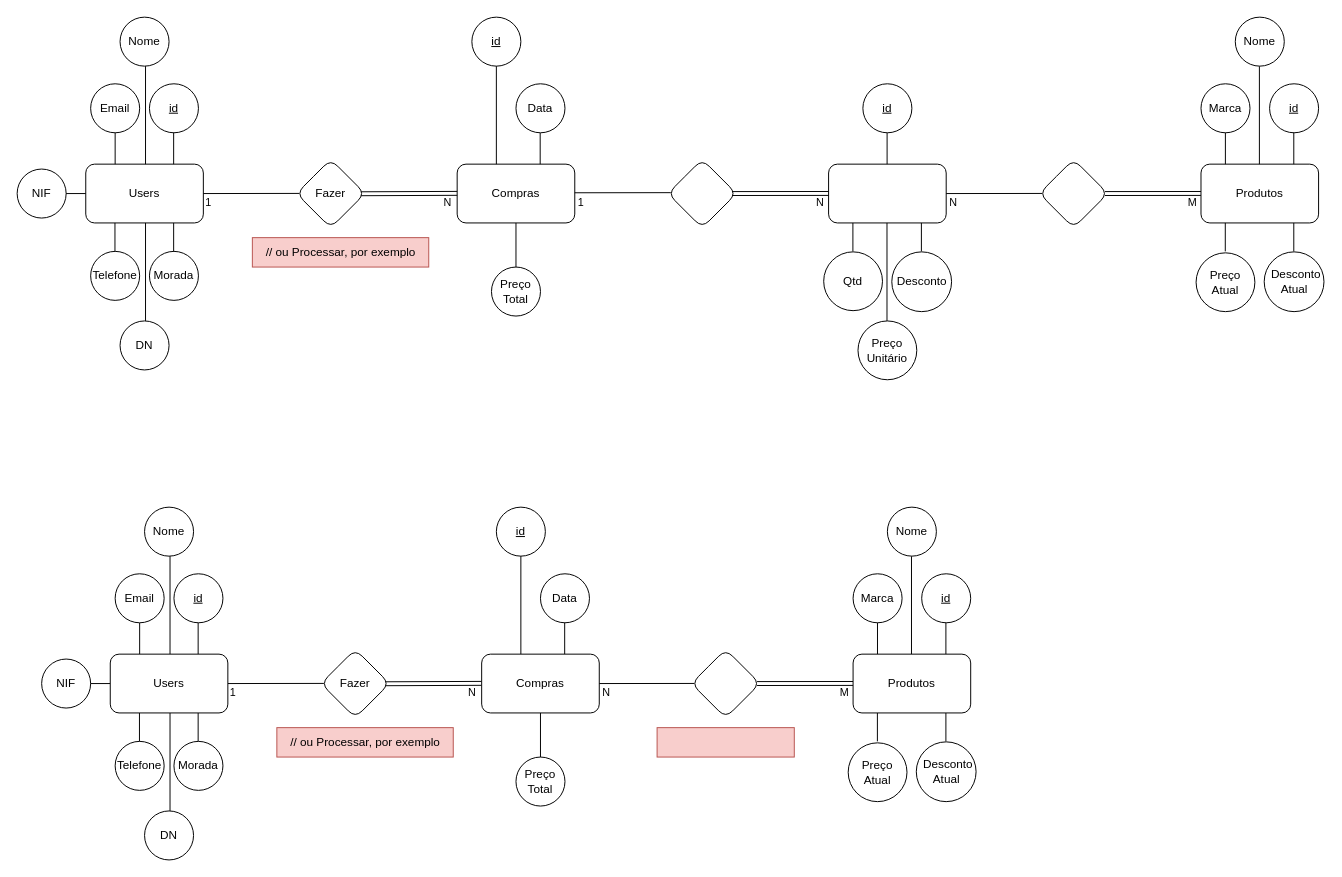
Some shapes in this 1342 by 877 pixel diagram are drawn without their labels. Each missing label, with the centre of its shape:
// ou Incluir, Englobar: the point at 725,742
Conter: the point at 701,193
Detalhar: the point at 725,683
Detalhes da Compra: the point at 887,193
Discriminar: the point at 1073,193
